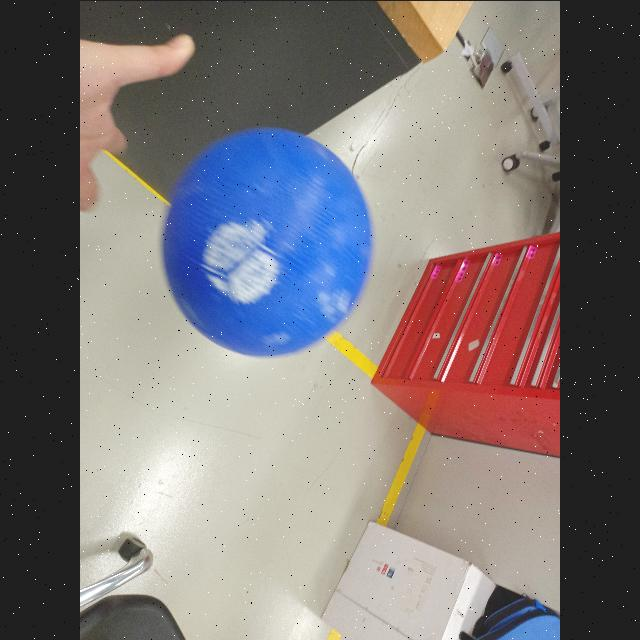B: (166, 127, 372, 351)
